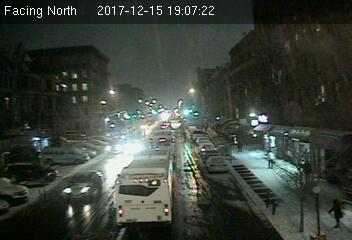bus: (114, 149, 174, 223)
car: (62, 169, 102, 199), (204, 157, 230, 173)
pedestrian: (328, 196, 345, 232), (267, 147, 276, 172)
